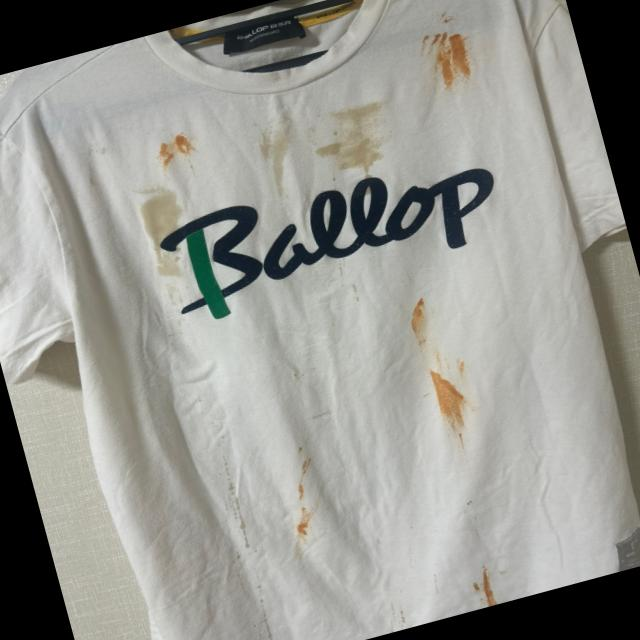stain: (303, 93, 401, 193), (128, 174, 205, 288), (416, 18, 487, 99), (271, 455, 332, 544), (212, 456, 258, 554), (251, 117, 303, 193), (428, 367, 481, 439), (144, 130, 208, 174), (459, 564, 515, 612), (237, 579, 280, 640), (397, 292, 440, 349), (331, 252, 370, 310), (418, 6, 466, 34), (382, 598, 415, 632), (423, 571, 447, 599), (432, 342, 448, 370), (448, 356, 467, 374), (292, 440, 316, 454), (461, 496, 476, 513)
